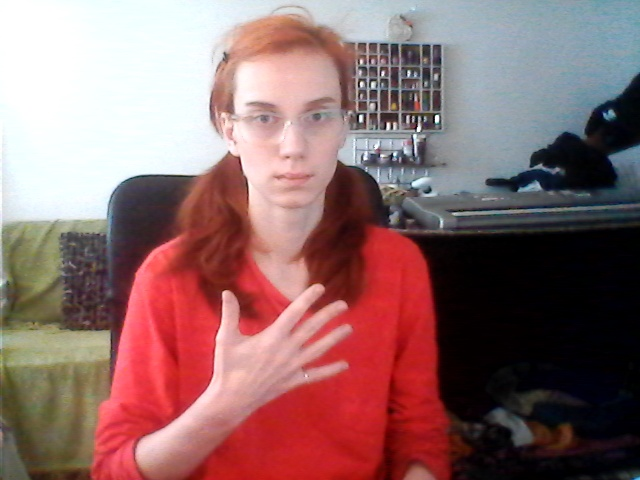pat: (201, 282, 364, 402)
